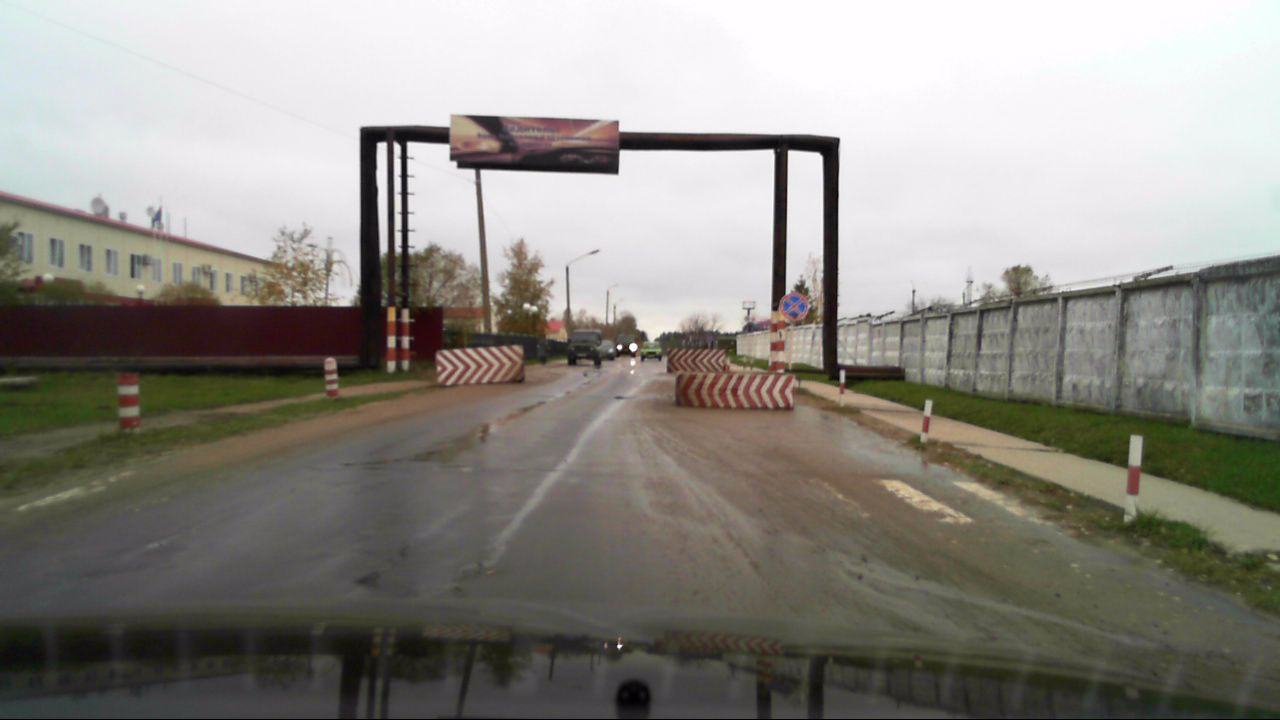No Parking: (778, 292, 809, 321)
